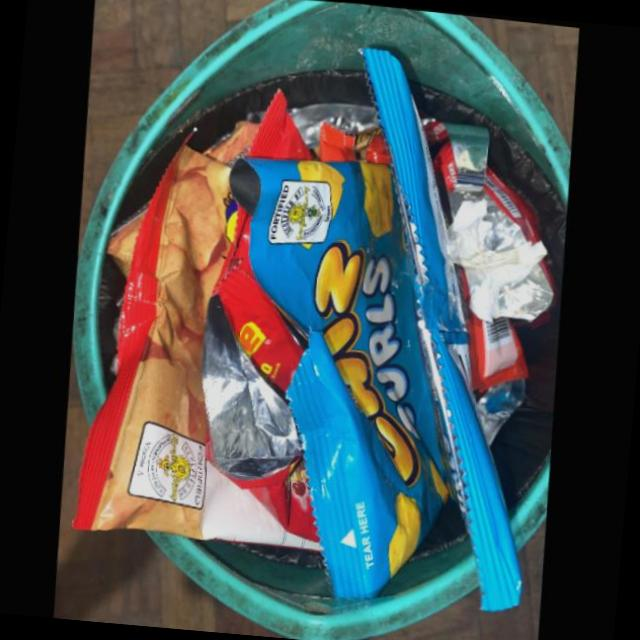bao_bi_thuc_pham: (227, 46, 523, 612), (73, 141, 321, 548), (432, 120, 558, 320), (454, 261, 528, 391), (287, 100, 390, 162), (243, 86, 314, 159)
giay: (447, 196, 547, 320)
